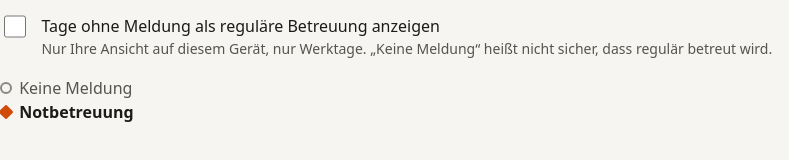
it: Ansicht „Tage ohne Meldung als regulär“ › zeigt nach dem Einschalten „vermutlich regulär“ und merkt sich das lokal
This screenshot has width=789, height=160.
Later steps or results of the test are not shown.
Click the switch at (15, 26), box [4, 15, 26, 38]
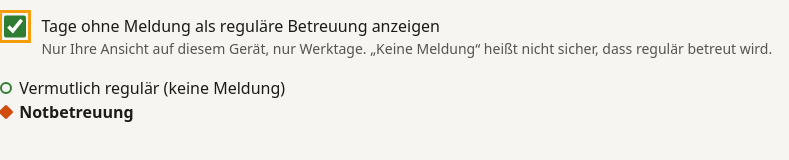
expect the text "Vermutlich regulär (keine Meldung)" is shown: met, box [0, 77, 285, 99]
